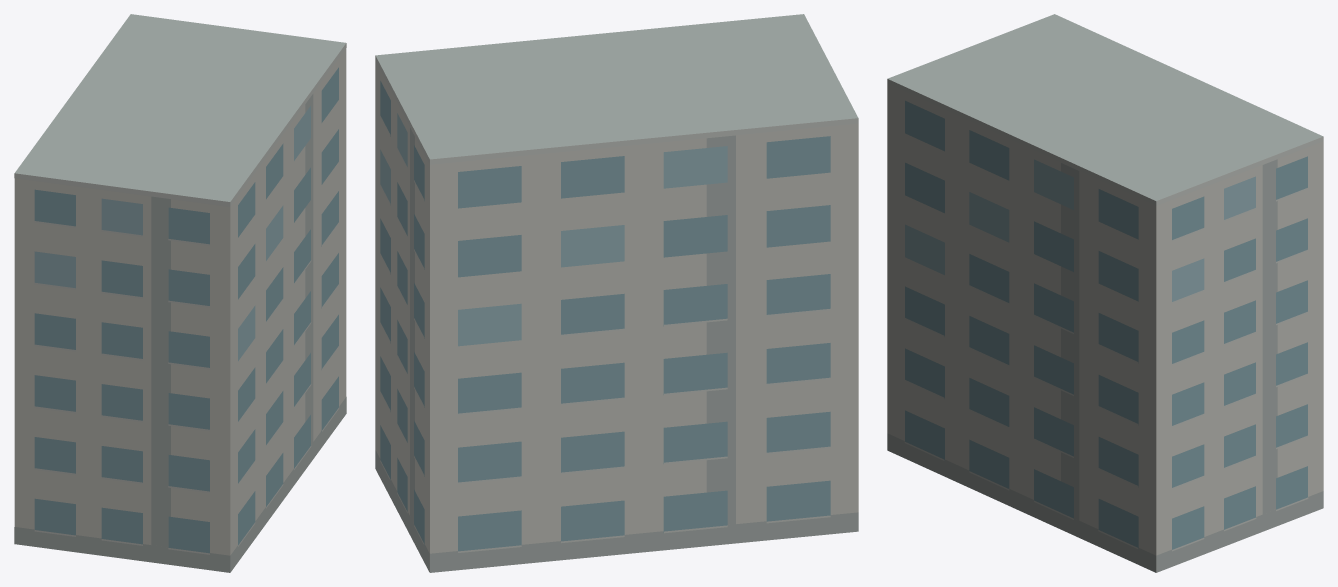
File: survey-upis-32625163.glb
The picture shows the model from 3 angles, left to right: view 1: azimuth 30°, elevation 25°; view 2: azimuth 150°, elevation 25°; view 3: azimuth 270°, elevation 25°; orthographic projection. The views are drawn at different scales.
Visible parts, largest first — view 1: survey-upis-32625163.tmp; view 2: survey-upis-32625163.tmp; view 3: survey-upis-32625163.tmp.
Boxes of the visible parts, x1,y1,x2,y2 form: survey-upis-32625163.tmp: [14, 14, 346, 572]; survey-upis-32625163.tmp: [375, 14, 858, 572]; survey-upis-32625163.tmp: [887, 14, 1323, 572].
Size of the model in its own units: 19.77 by 18.3 by 19.47.
